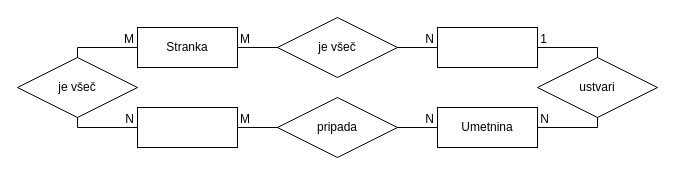
This 675x175 diagram has some shape labels left out. The shapes that lost their labels are listed below. From the top down, each one's box as (x1, y1, x2, y2) in pixels, then its label:
(436, 26, 538, 68): Umetnik
(136, 106, 238, 148): Kategorija
